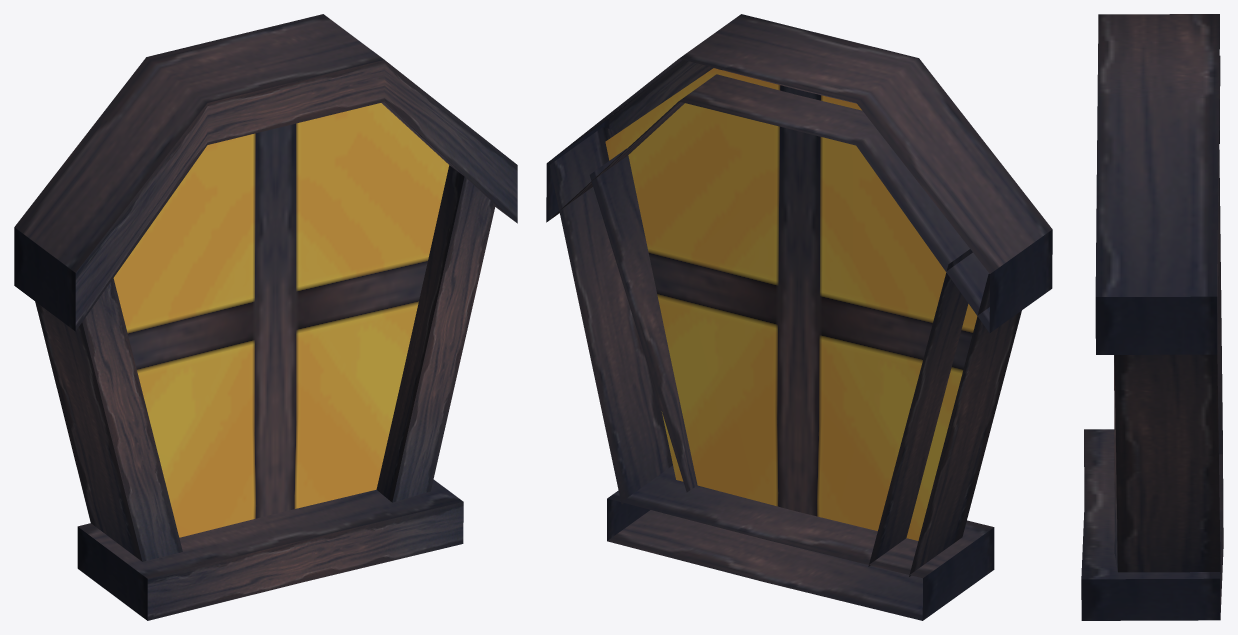
The model's file is Window_C.fbx.
The picture shows the model from 3 angles, left to right: view 1: azimuth 30°, elevation 25°; view 2: azimuth 150°, elevation 25°; view 3: azimuth 270°, elevation 25°; orthographic projection. The views are drawn at different scales.
Visible parts, largest first — view 1: Window_C; view 2: Window_C; view 3: Window_C.
Part boxes in pixels (x1=…): Window_C: x1=14, y1=14, x2=517, y2=620; Window_C: x1=546, y1=14, x2=1052, y2=620; Window_C: x1=1081, y1=14, x2=1223, y2=620.
Bounding box in the file's own units: 36.08 × 38.84 × 10.22.
1 material, 1 textured.
